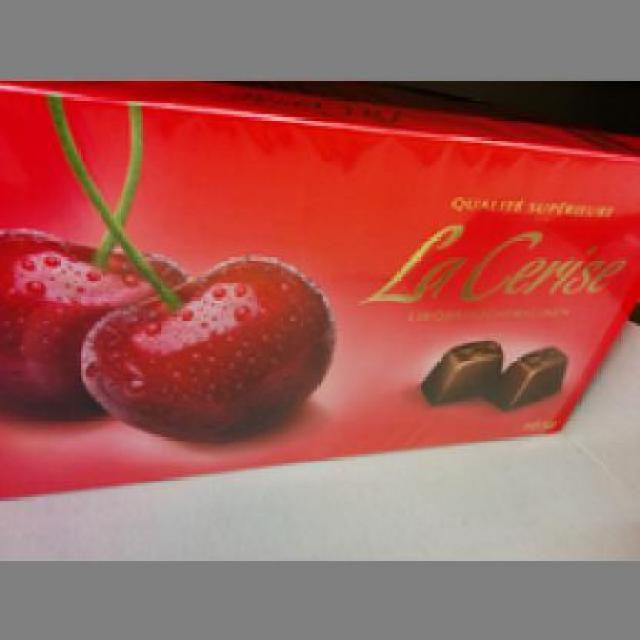Chocolate bar: (1, 77, 637, 497)
